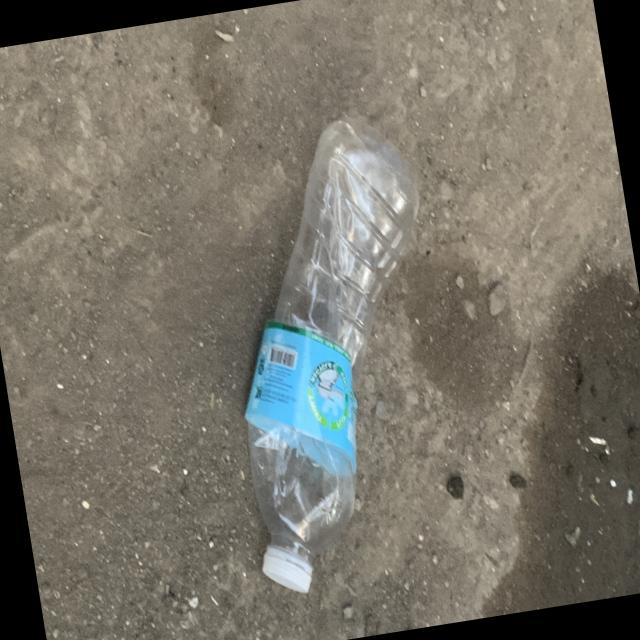Bottle: (245, 116, 419, 591)
